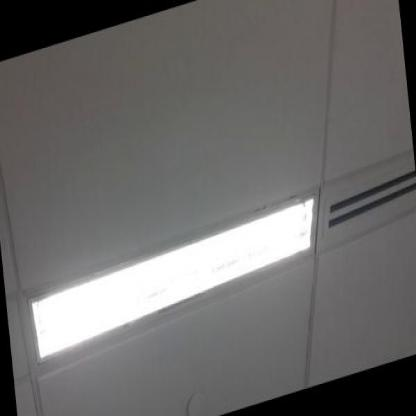light_on: (14, 155, 333, 415)
